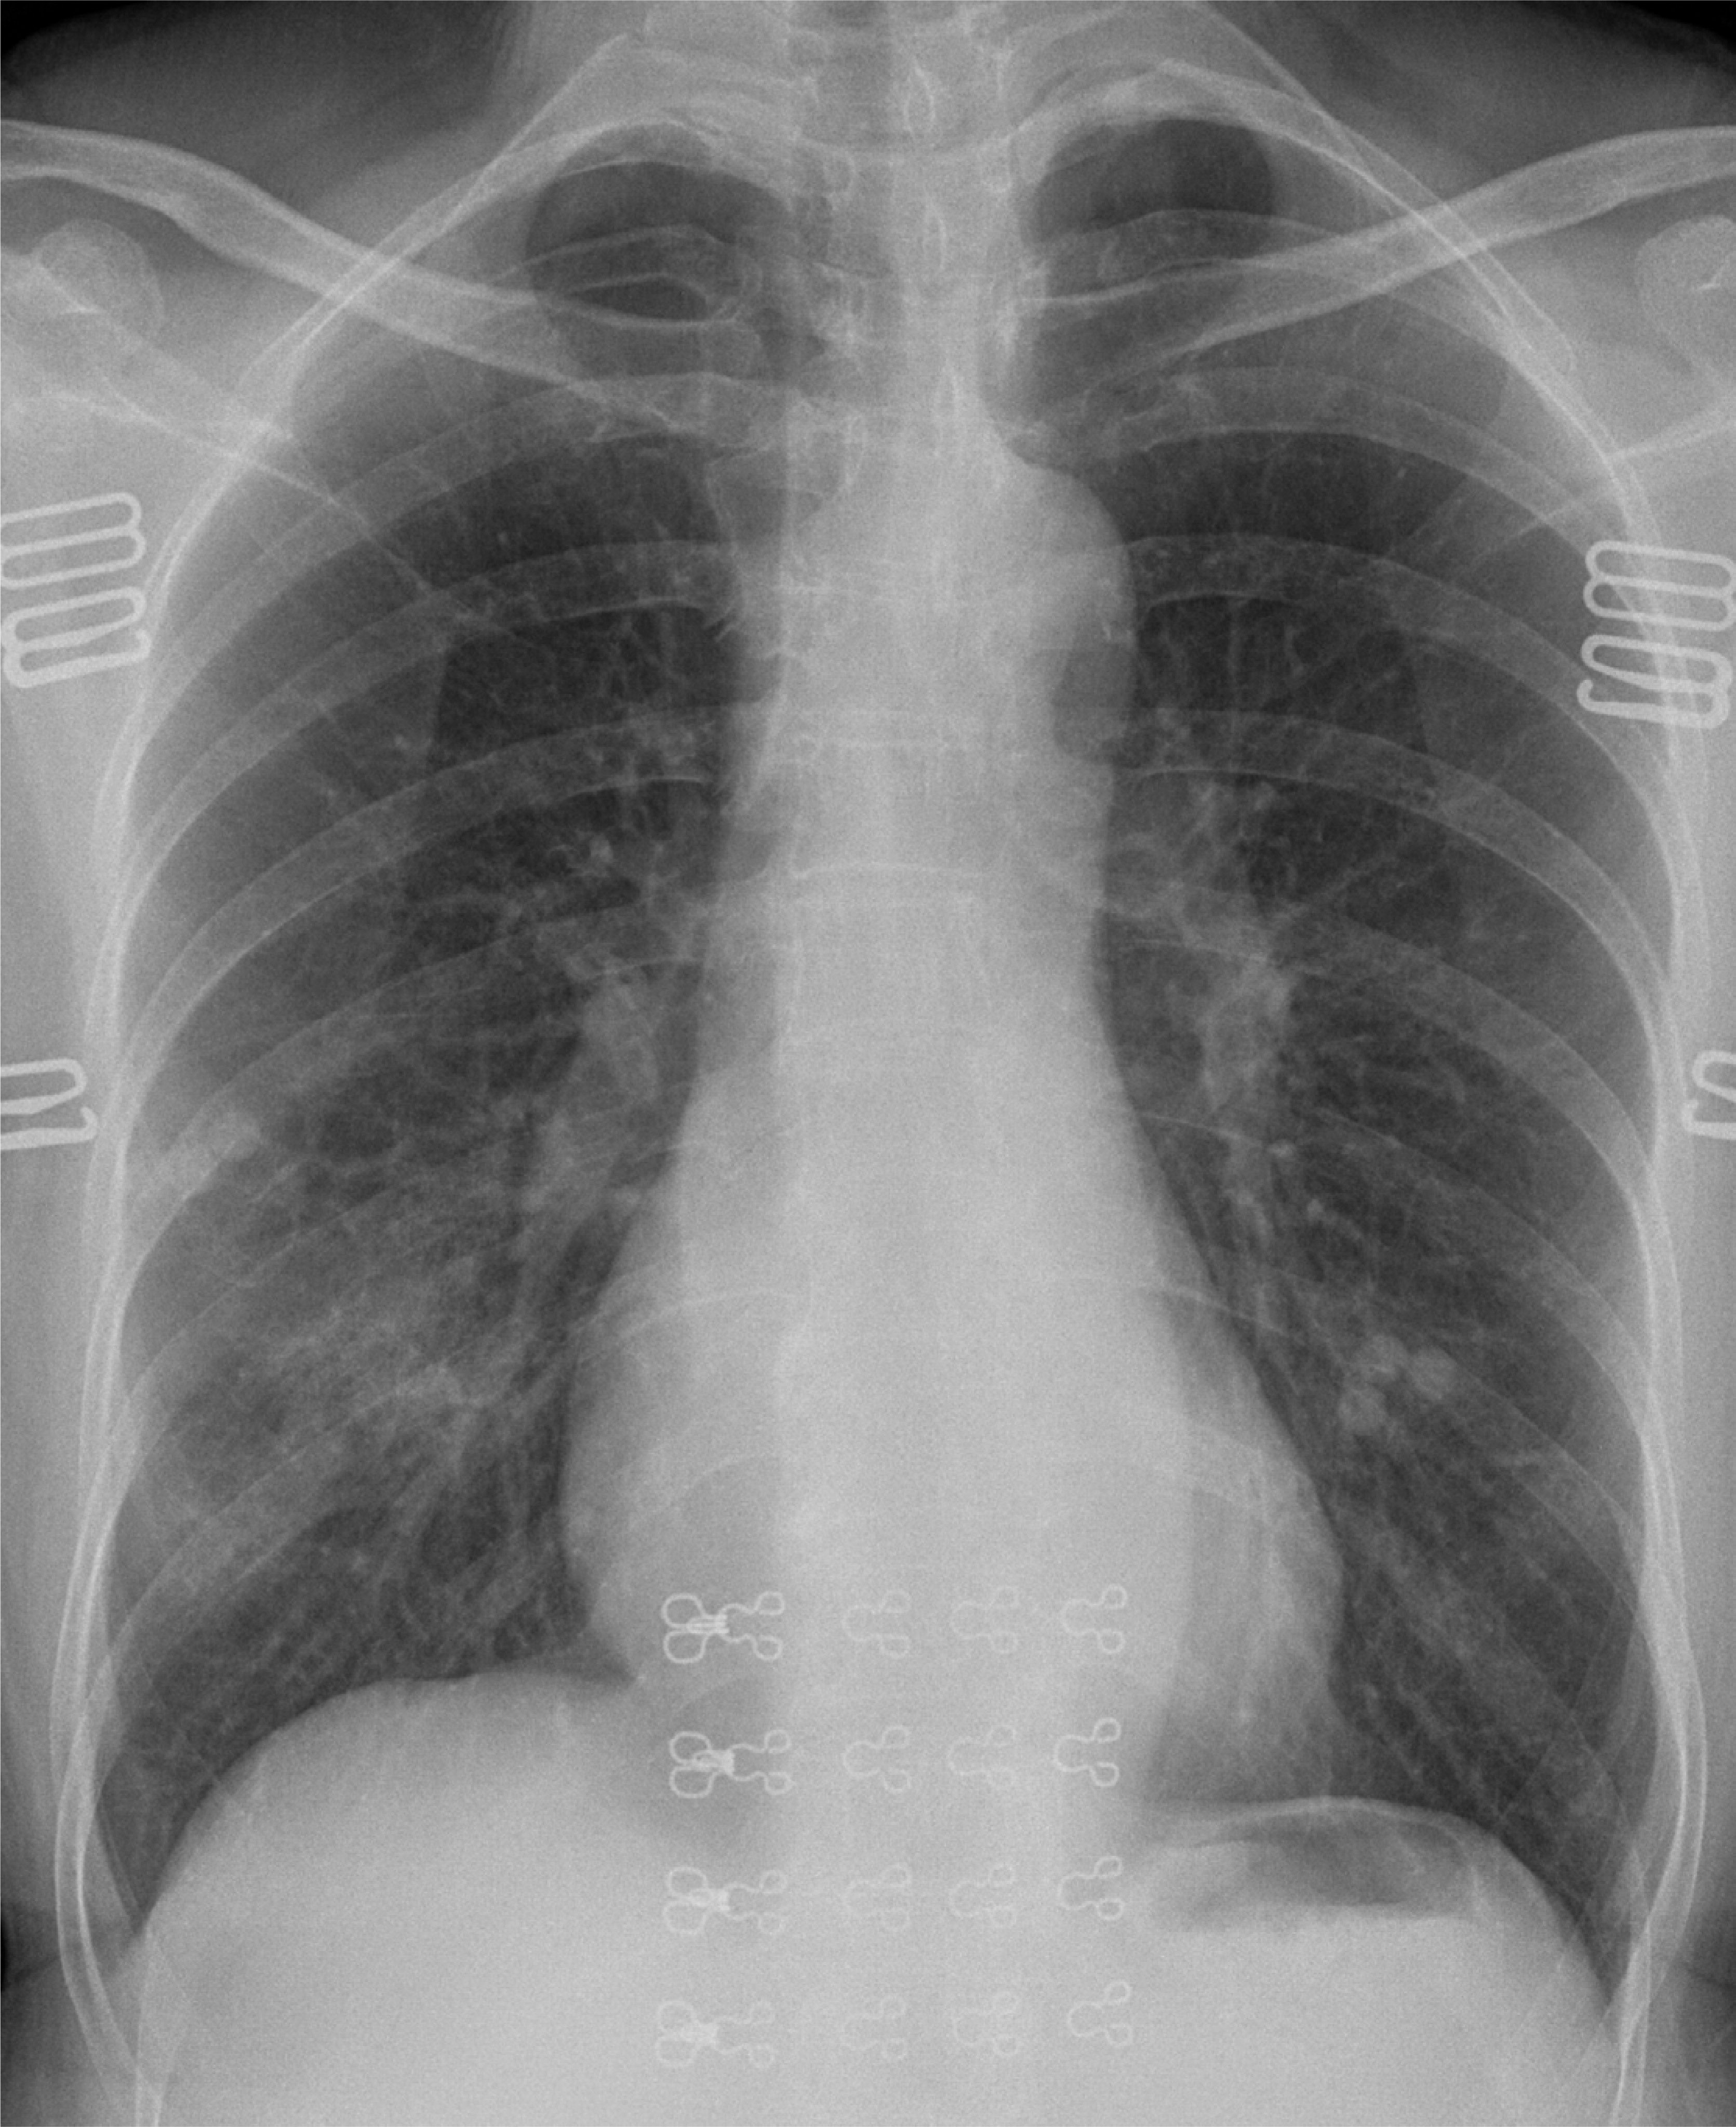Mildw: (94, 147, 835, 1947), (998, 125, 1655, 1964)
